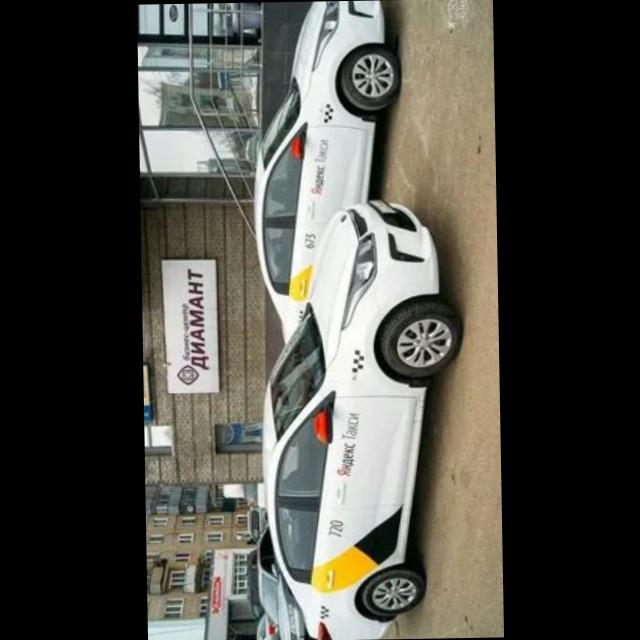taxi: (254, 198, 468, 640), (249, 1, 406, 348)
